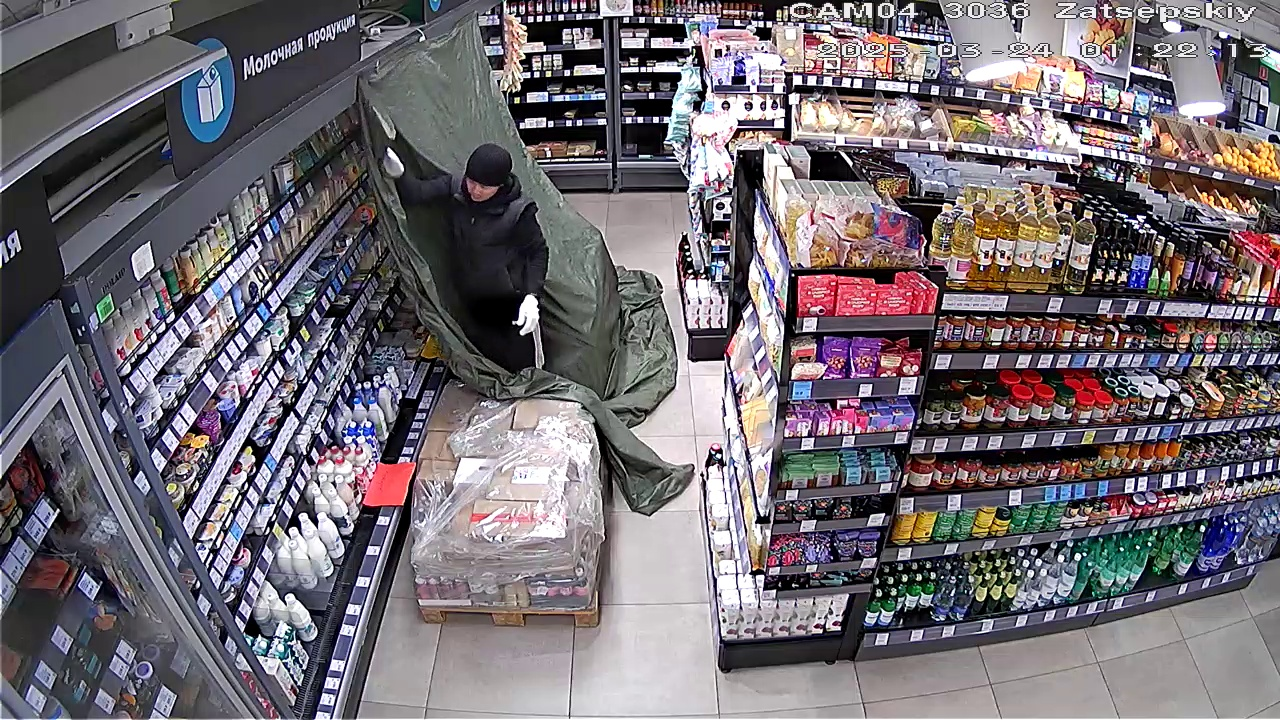Human: (373, 120, 558, 378)
dome: (353, 43, 698, 516)
pallet: (414, 377, 606, 627)
